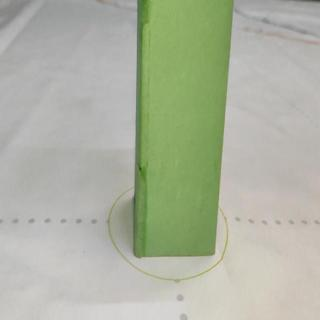greenbox: (133, 1, 229, 266)
